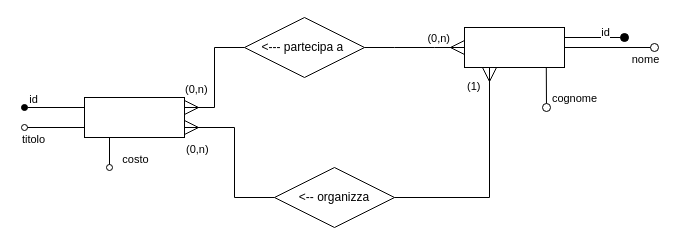
Some shapes in this 682 by 245 pixel diagram are drawn without their labels. The shapes that lost their labels are listed below. From the top down, each one's centre as x and y in pixels, then its label:
the point at 514,47: Utente
the point at 134,117: Evento
